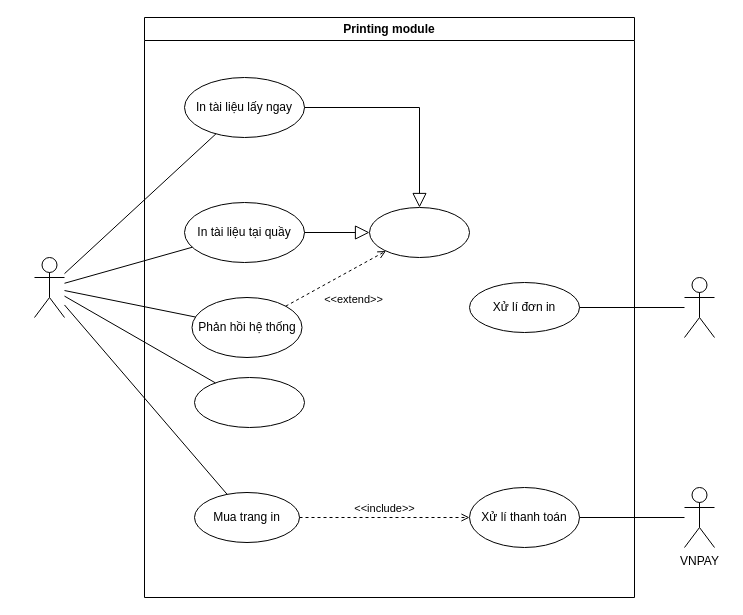
The diagram is 743 pixels wide and 615 high, and some of its shapes have lost their labels. The centre of each missing label's shape, as x and y in pixels:
"In tài liệu" belongs at point 419,232.
"Người dùng" belongs at point 49,287.
"Nhân viên" belongs at point 699,307.
"Xem lịch sử in ấn" belongs at point 249,402.
